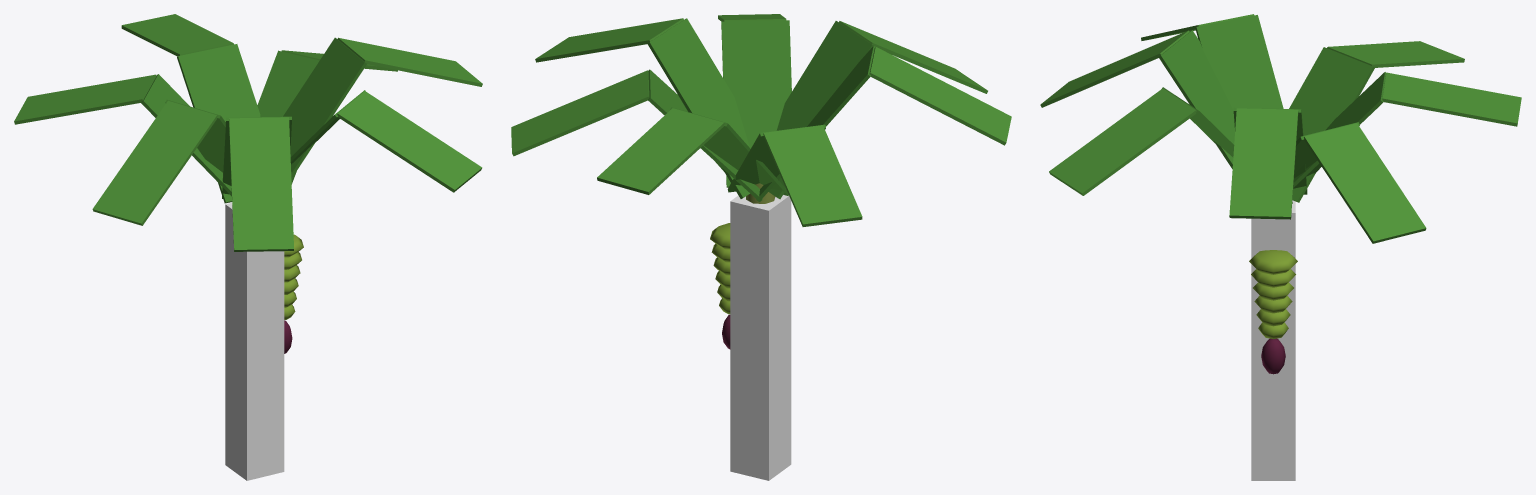
Rendered from platanera.glb.
3 renders of one model, left to right at view 1: azimuth 30°, elevation 25°; view 2: azimuth 150°, elevation 25°; view 3: azimuth 270°, elevation 25°, orthographic. The views are drawn at different scales.
Parts seen in each view (by area): view 1: platanera_Malla, COL_0; view 2: platanera_Malla, COL_0; view 3: platanera_Malla, COL_0.
Boxes of the visible parts, x1,y1,x2,y2 form: platanera_Malla: (14, 14, 482, 353); COL_0: (225, 203, 284, 480); platanera_Malla: (511, 14, 1011, 349); COL_0: (730, 195, 791, 480); platanera_Malla: (1040, 14, 1521, 374); COL_0: (1251, 200, 1295, 480).
Size of the model in its own units: 3.94 by 3.67 by 3.91.
